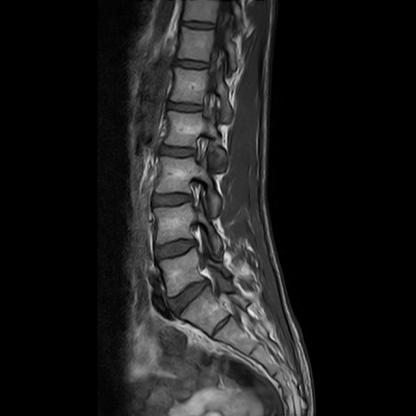Degenerative Disc Diseaserotation: (165, 281, 218, 312)
Disc Bulgerotation: (166, 282, 218, 313)
